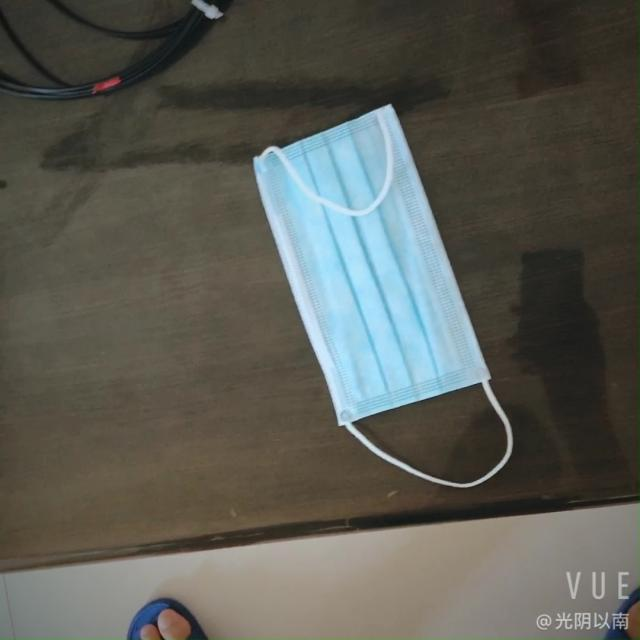non-organic waste: (263, 106, 531, 447)
